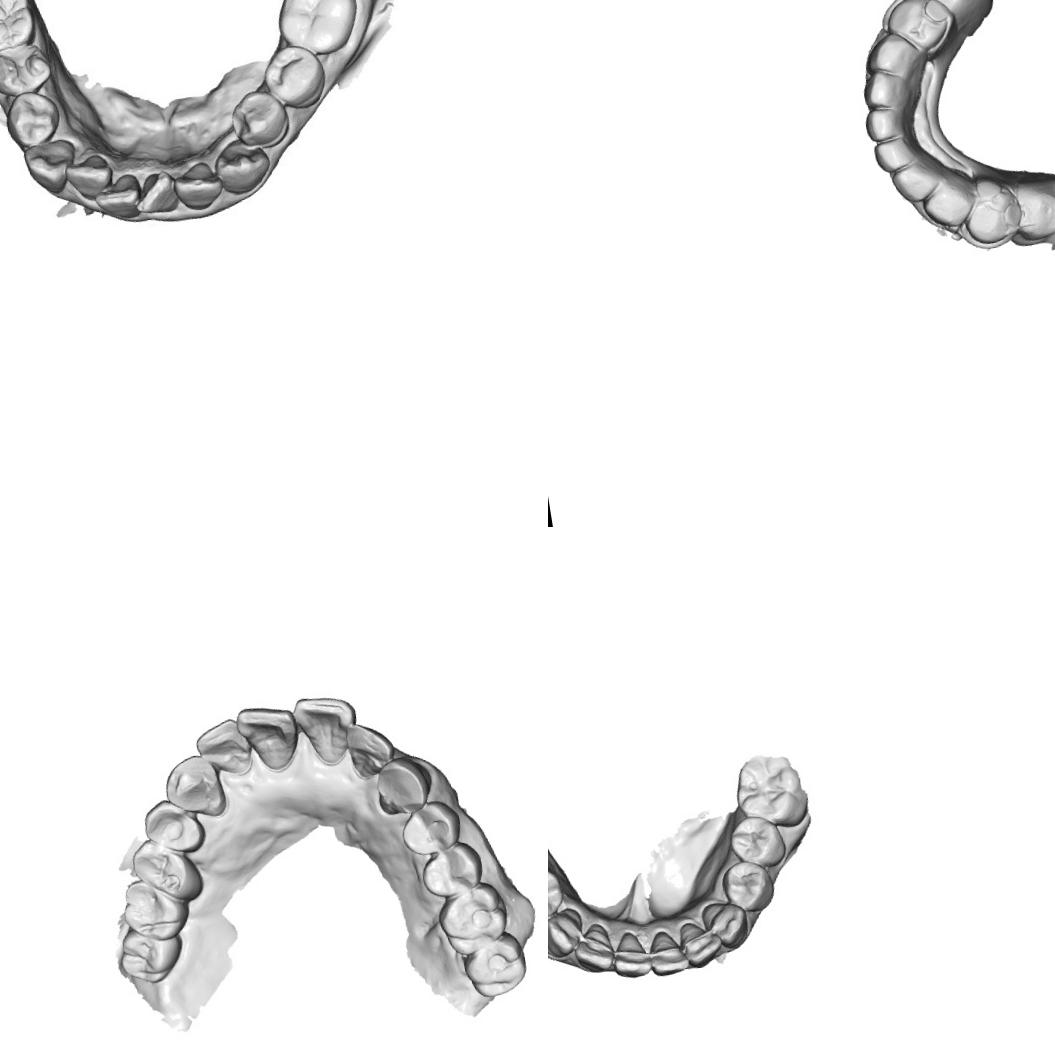canine: (158, 752, 230, 824), (370, 752, 436, 818), (20, 129, 83, 198), (214, 134, 280, 196), (861, 27, 928, 84), (918, 176, 970, 232), (700, 896, 752, 952), (548, 904, 588, 960)
incisor: (290, 689, 363, 771), (233, 700, 305, 778), (192, 714, 256, 780), (90, 168, 151, 226), (342, 718, 398, 780), (68, 150, 125, 202), (568, 920, 618, 978), (676, 917, 725, 971), (175, 159, 223, 210), (644, 926, 690, 978), (608, 928, 652, 982), (859, 66, 910, 109), (890, 163, 940, 206), (134, 170, 178, 218), (870, 134, 918, 175), (862, 106, 906, 144)
molar: (730, 749, 812, 835), (434, 878, 514, 958), (268, 0, 365, 60), (118, 872, 194, 946), (459, 931, 532, 1002), (116, 921, 188, 988), (0, 0, 43, 61)
premolar: (128, 832, 205, 908), (881, 0, 962, 64), (258, 42, 328, 114), (0, 84, 66, 155), (224, 85, 292, 153), (396, 794, 466, 860), (140, 794, 208, 860), (958, 182, 1022, 250), (417, 840, 487, 902), (724, 810, 790, 874), (0, 40, 59, 100), (716, 856, 775, 916), (1014, 177, 1055, 241), (919, 0, 994, 28), (548, 865, 568, 928)
